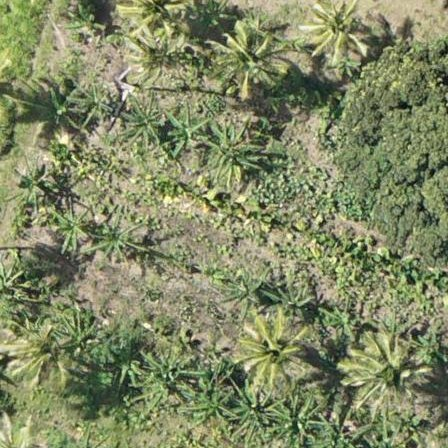palm_tree: (299, 1, 374, 65), (5, 317, 71, 389), (209, 27, 278, 89), (244, 317, 304, 381), (356, 343, 413, 403), (118, 1, 192, 46)
